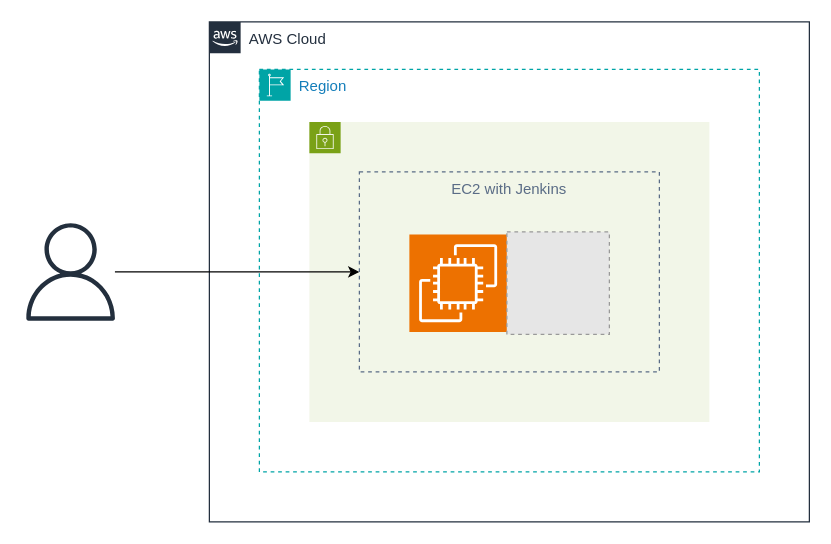
The diagram is 831 pixels wide and 544 high, and some of its shapes have lost their labels. Grey dashed boxes stand in for pictures. Here are the shapes that lost their labels. From the top down, the box of each, then its label:
(21, 222, 119, 320): User
(308, 121, 709, 422): Public subnet
